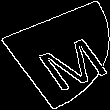M_NW: (12, 21, 98, 89)
